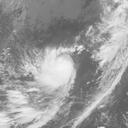cyclone: (31, 48, 76, 93), (102, 9, 127, 52)
